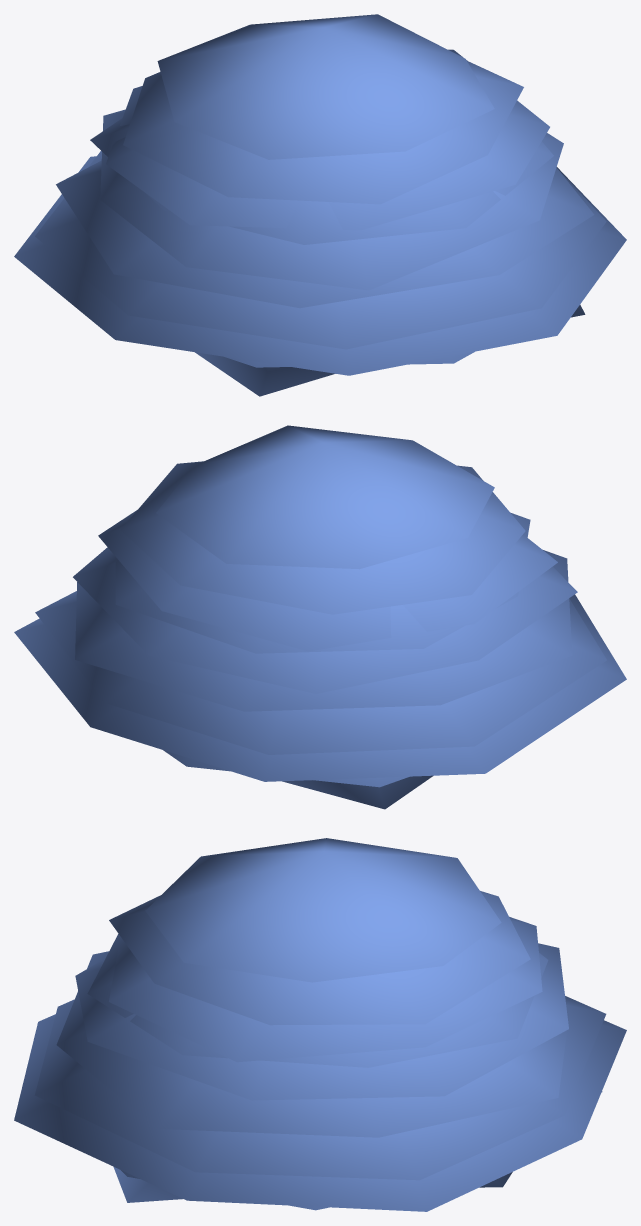
File: Bosje1SW.fbx
3 views of the same model, one above another, from view 1: azimuth 30°, elevation 25°; view 2: azimuth 150°, elevation 25°; view 3: azimuth 270°, elevation 25° (orthographic). The views are drawn at different scales.
Visible parts, largest first — view 1: Bosje1_LOD0; view 2: Bosje1_LOD0; view 3: Bosje1_LOD0.
Part boxes in pixels (x1,y1,x2,y2): Bosje1_LOD0: (14,14,626,396); Bosje1_LOD0: (14,425,626,809); Bosje1_LOD0: (14,838,626,1211).
Size of what is drawn, in the model's own units: 4.08 by 1.94 by 4.01.
